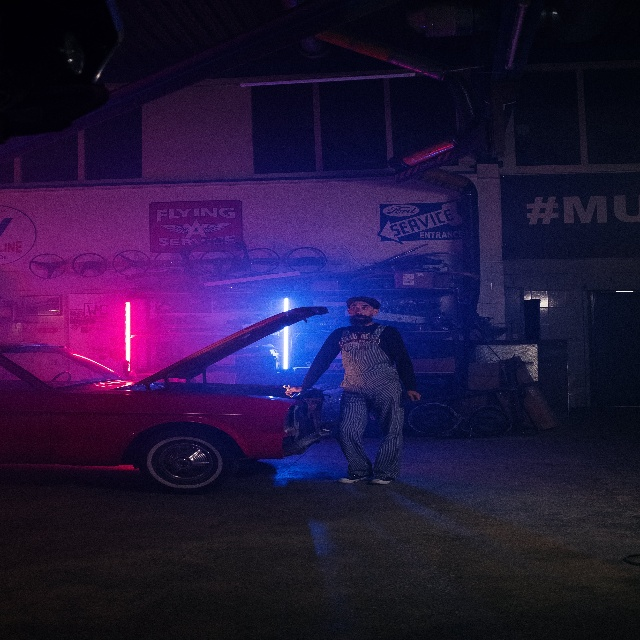Sin_guantes: (285, 386, 304, 397), (407, 389, 422, 401)
